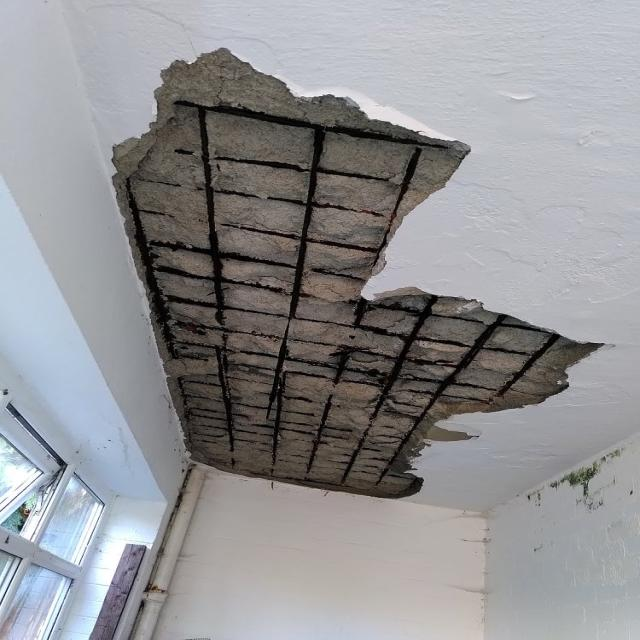damaged_roof: (111, 49, 602, 501)
